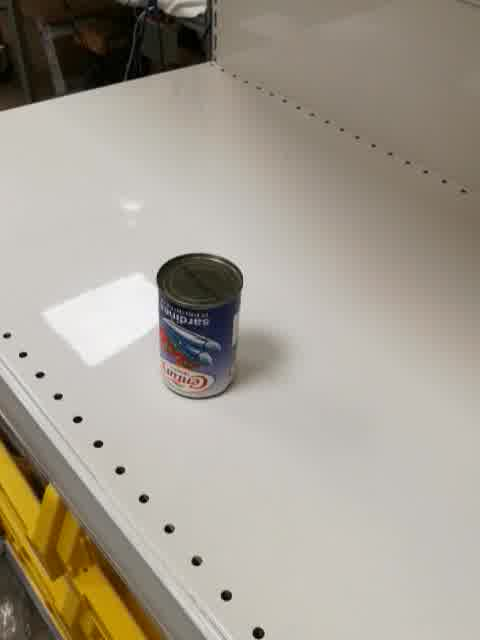sardine: (155, 251, 243, 401)
